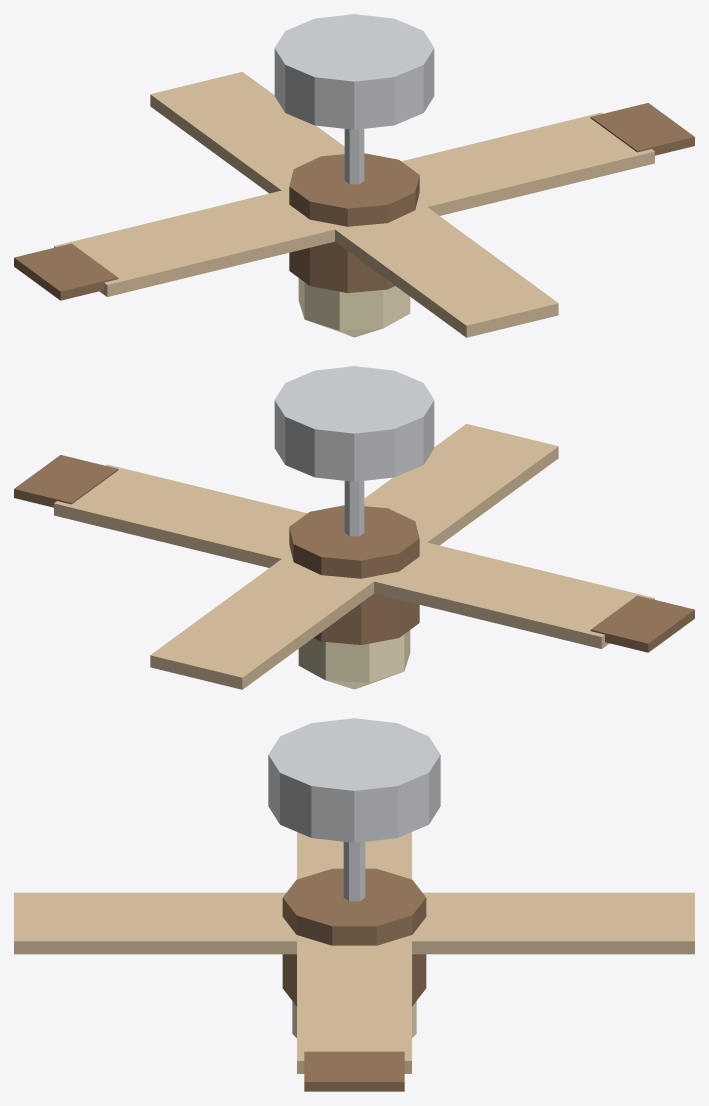
The model's file is ceiling_fan.glb.
3 renders of one model, top to bottom at view 1: azimuth 30°, elevation 25°; view 2: azimuth 150°, elevation 25°; view 3: azimuth 270°, elevation 25°, orthographic. The views are drawn at different scales.
Parts seen in each view (by area): view 1: ceiling_fan; view 2: ceiling_fan; view 3: ceiling_fan.
Part boxes in pixels (left/top/right/bottom): ceiling_fan: left=14, top=14, right=694, bottom=337; ceiling_fan: left=14, top=366, right=694, bottom=689; ceiling_fan: left=14, top=718, right=694, bottom=1091.
Size of the model in its own units: 1.1 by 0.48 by 0.95.
